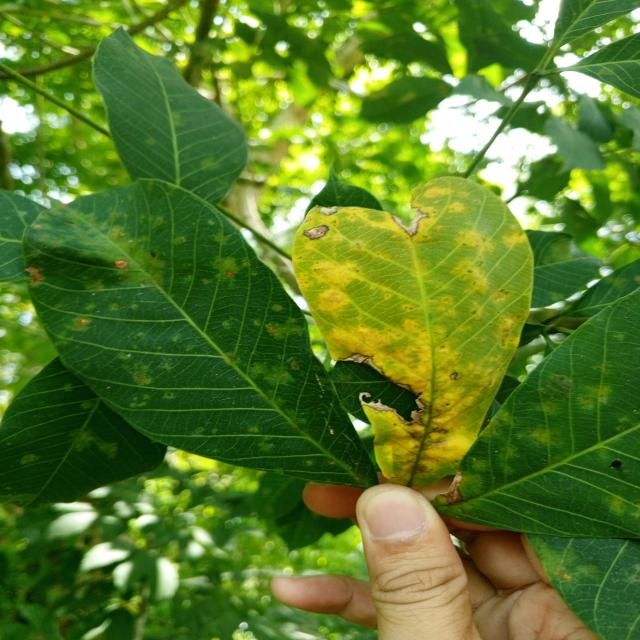Leaf-Blight: (392, 206, 428, 236), (440, 470, 463, 504), (360, 392, 394, 412), (303, 226, 327, 239), (321, 206, 337, 215)
